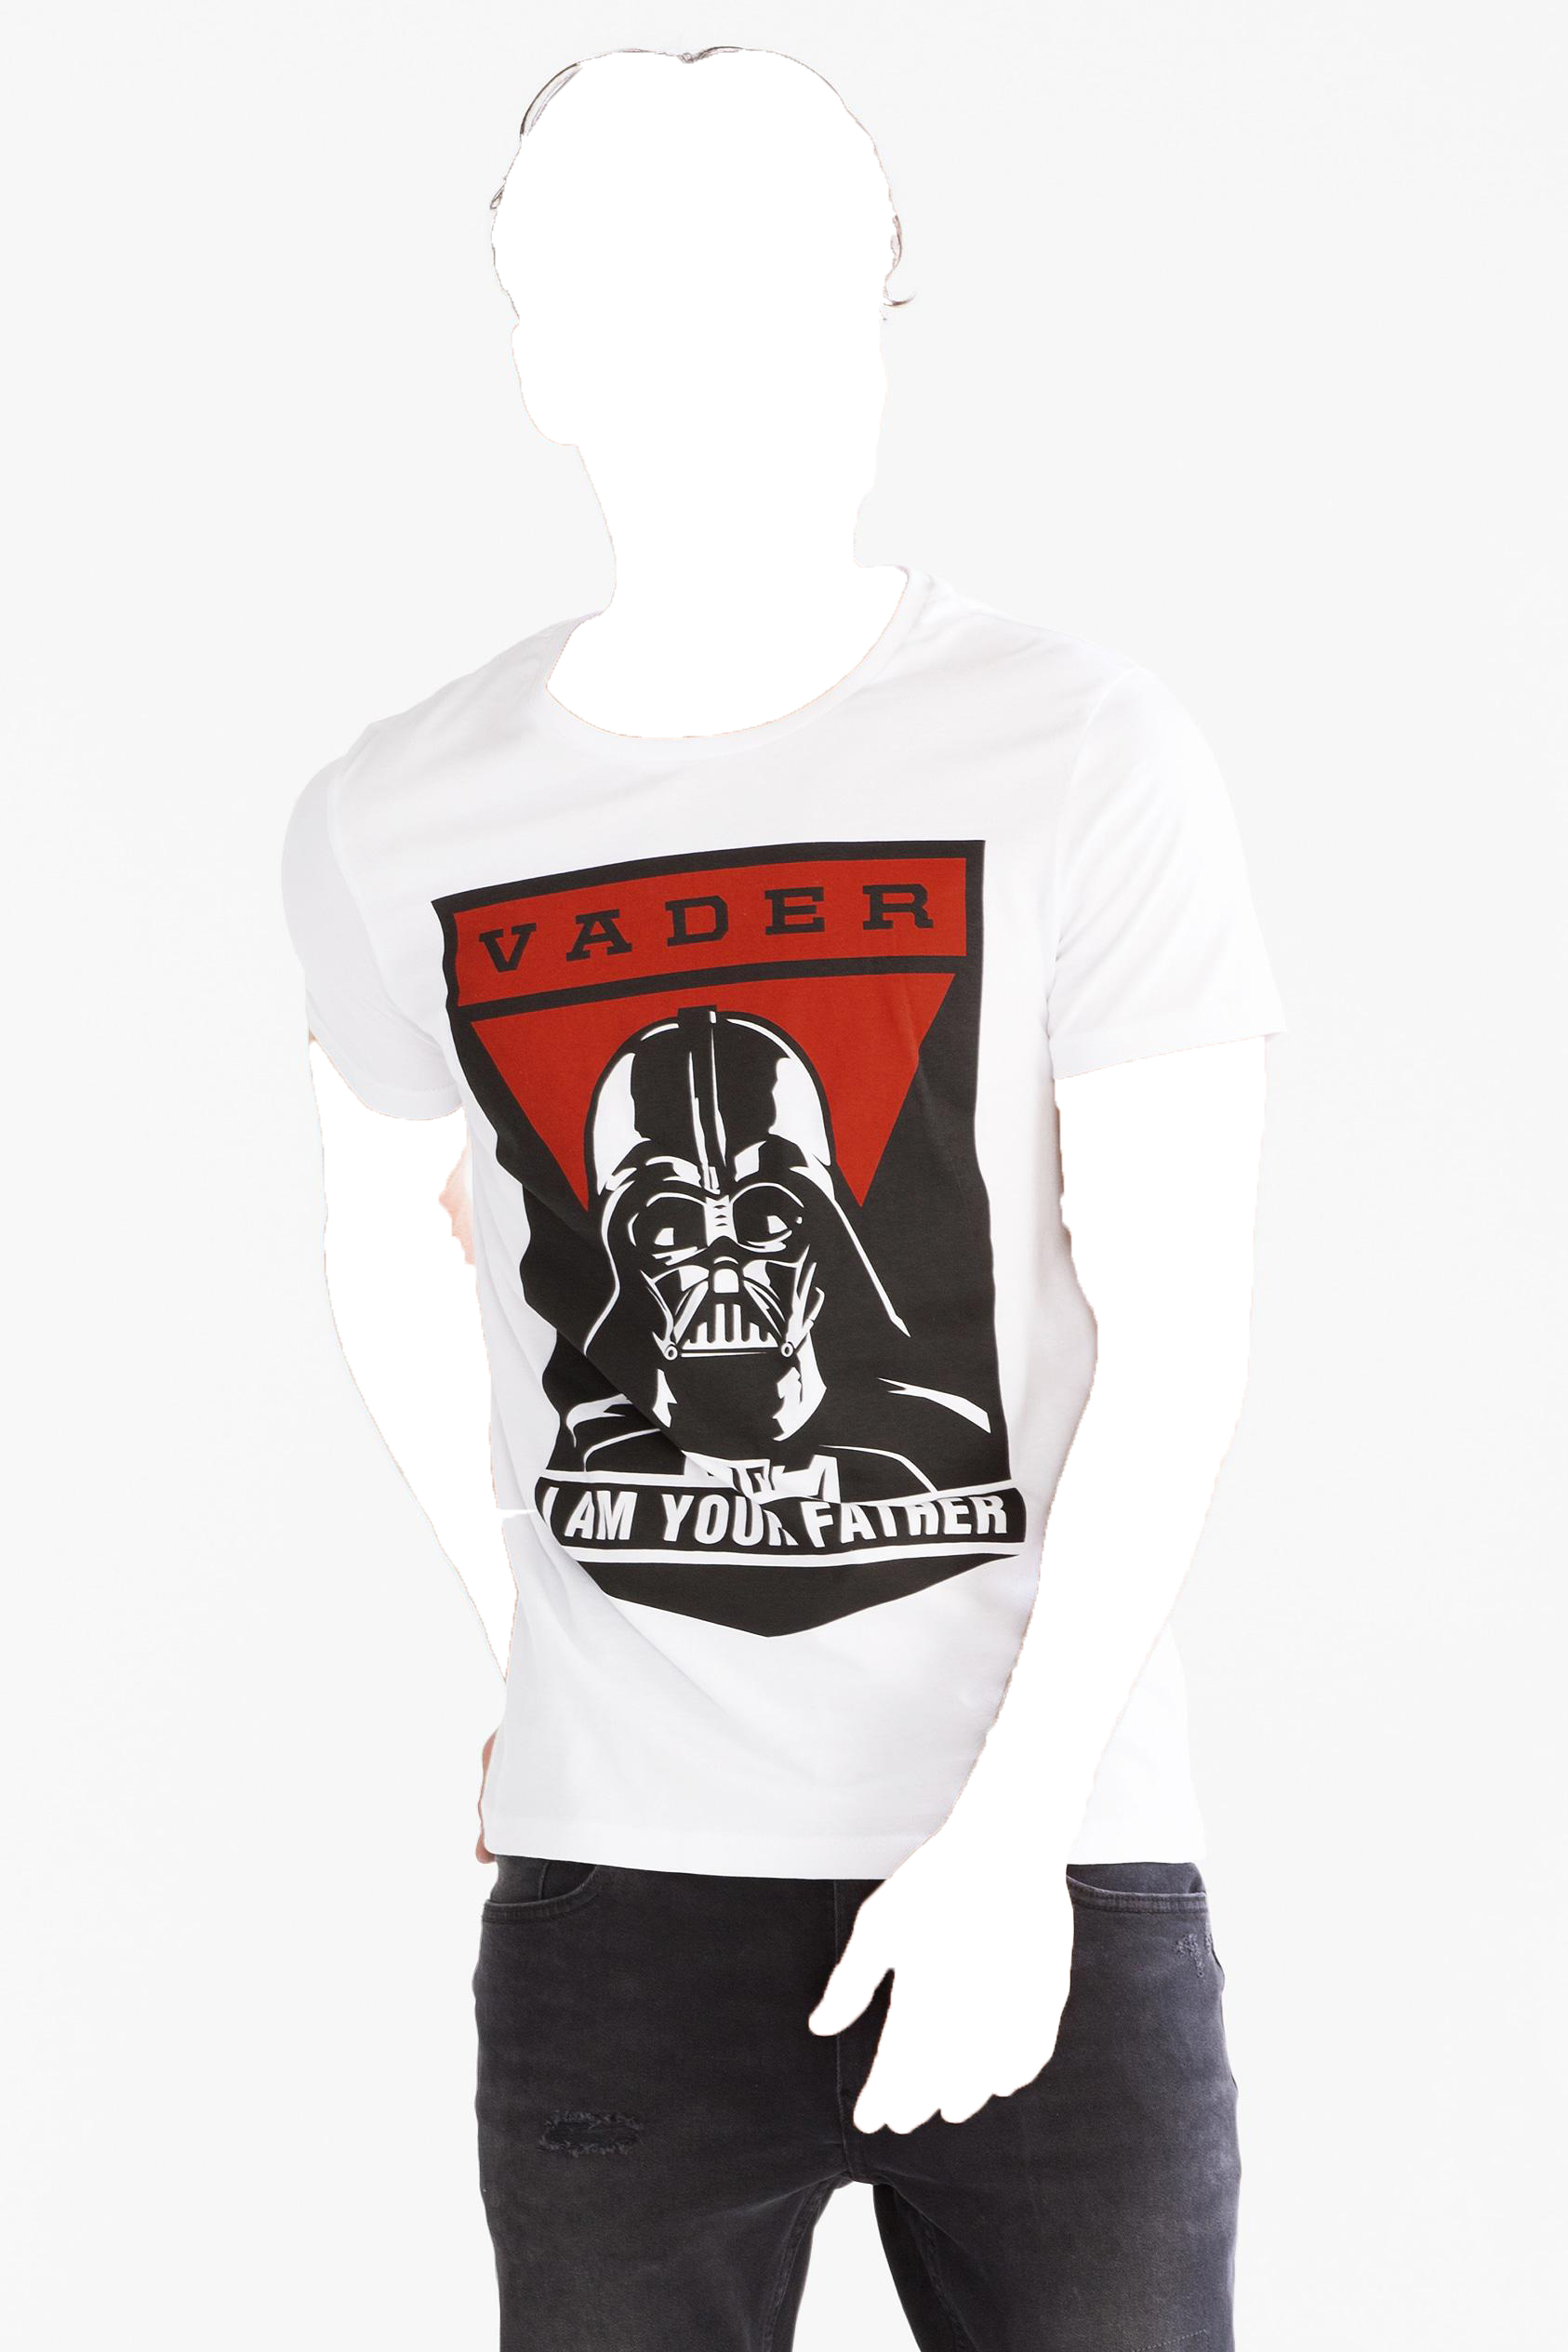teeshirt: (245, 618, 1319, 1885)
